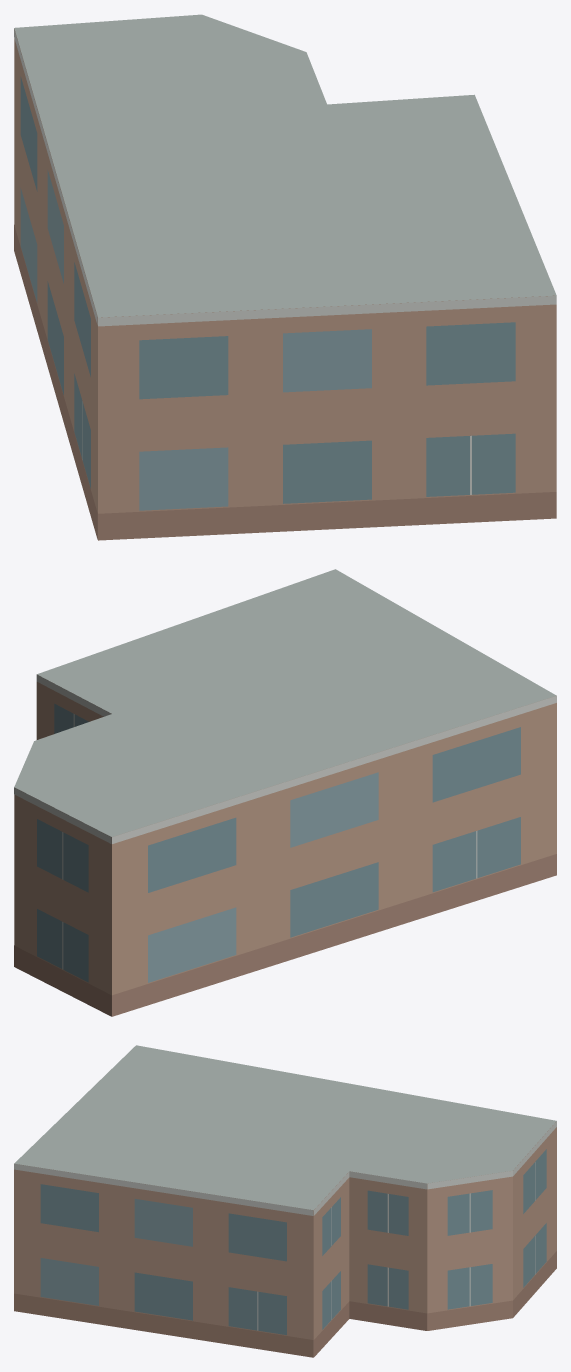
Rendered from survey-upis-32647544.glb.
3 views of the same model, one above another, from view 1: azimuth 30°, elevation 25°; view 2: azimuth 150°, elevation 25°; view 3: azimuth 270°, elevation 25° (orthographic). The views are drawn at different scales.
Visible parts, largest first — view 1: survey-upis-32647544.tmp; view 2: survey-upis-32647544.tmp; view 3: survey-upis-32647544.tmp.
Boxes of the visible parts, box(x1,y1,x2,y2) form: survey-upis-32647544.tmp: box(14, 14, 556, 540); survey-upis-32647544.tmp: box(14, 569, 556, 1016); survey-upis-32647544.tmp: box(14, 1045, 556, 1357).
Size of the model in its own units: 14.65 by 6.1 by 20.35.
